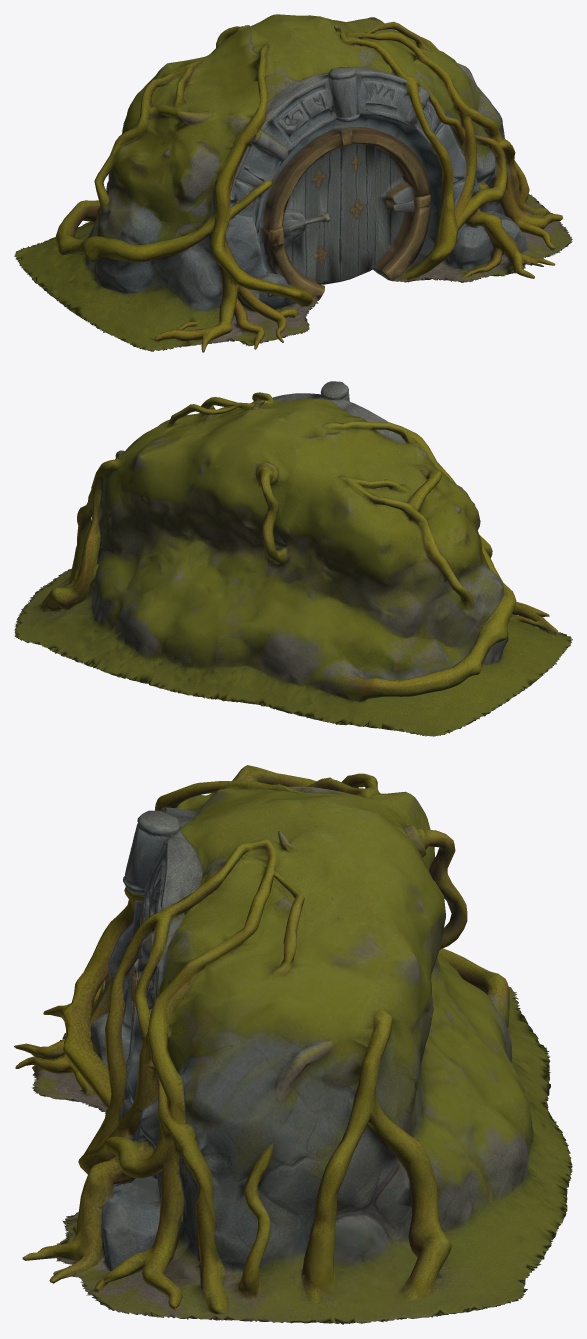
Rendered from barrow_entrance.glb.
3 views of the same model, one above another, from view 1: azimuth 30°, elevation 25°; view 2: azimuth 150°, elevation 25°; view 3: azimuth 270°, elevation 25° (orthographic). The views are drawn at different scales.
Size of the model in its own units: 1.9 by 0.8666 by 1.27.
1 material, 1 textured.
